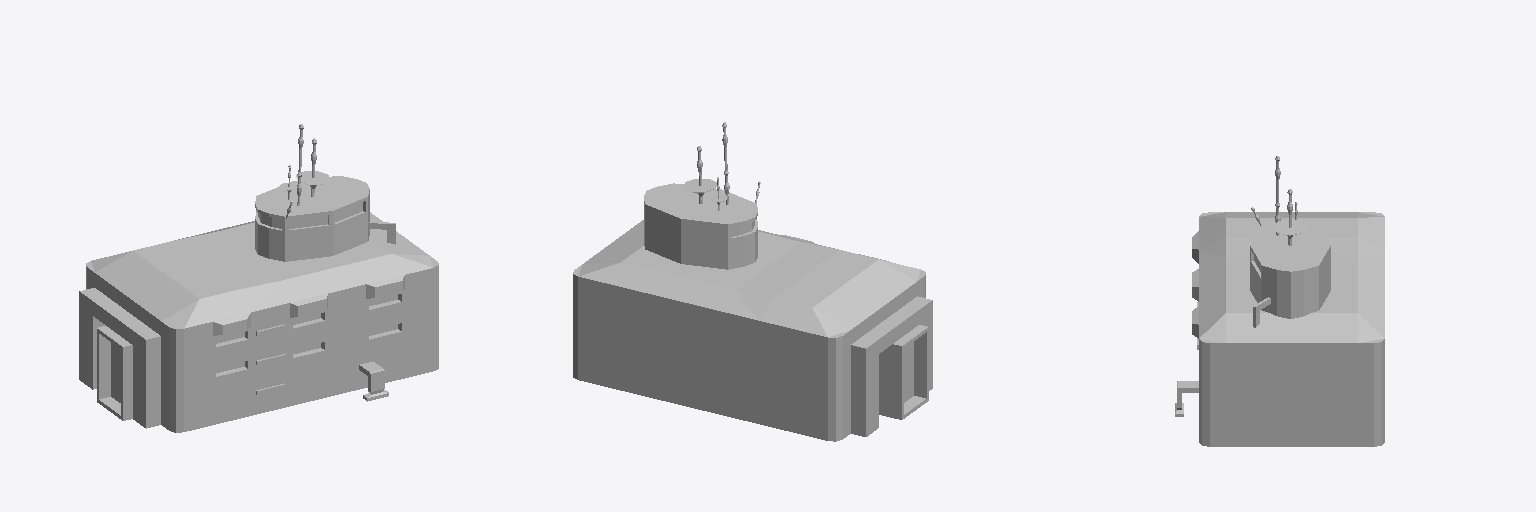
The model's file is Astra_Outpost_Mesh.obj.
3 renders of one model, left to right at view 1: azimuth 30°, elevation 25°; view 2: azimuth 150°, elevation 25°; view 3: azimuth 270°, elevation 25°, orthographic.
Visible parts, largest first — view 1: StarForgerSetup; view 2: StarForgerSetup; view 3: StarForgerSetup.
Boxes of the visible parts, <box> form: StarForgerSetup: <box>79,124,438,432</box>; StarForgerSetup: <box>573,122,932,441</box>; StarForgerSetup: <box>1175,156,1384,446</box>.
Bounding box in the file's own units: 14.73 × 11.66 × 9.12.